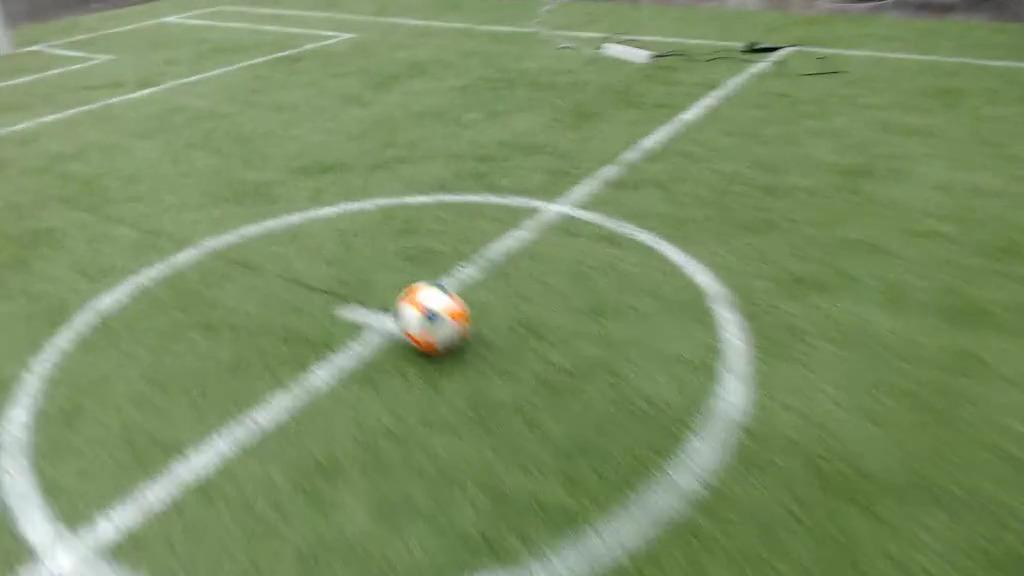ball: (396, 279, 468, 355)
